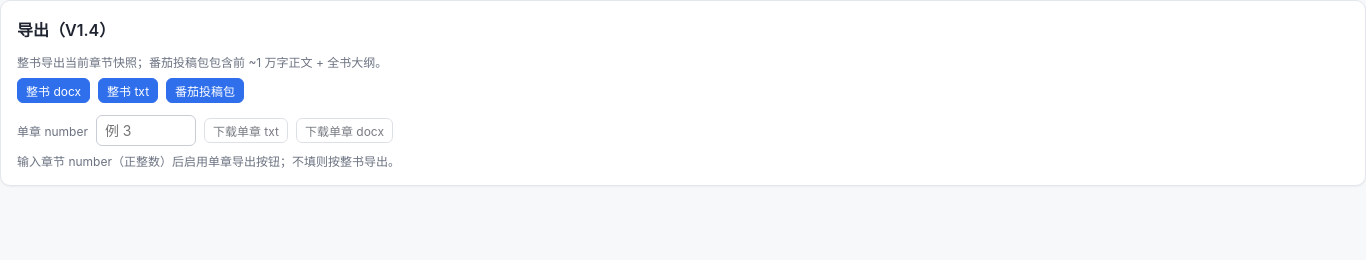
ExportPanel (V1.4 / Sprint 16) › shows 400 error banner when backend returns 400 with detail
Click the button with test id "export-book-txt": coordinates (128, 90) [98,78,158,103]
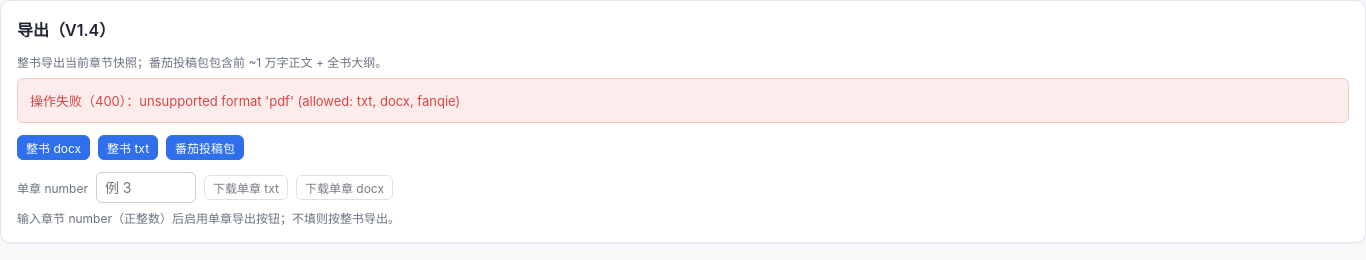
Check: the text "操作失败（400）：unsupported format 'pdf' (allowed: txt, docx, fanqie)" is shown, box [17,78,1349,123]
